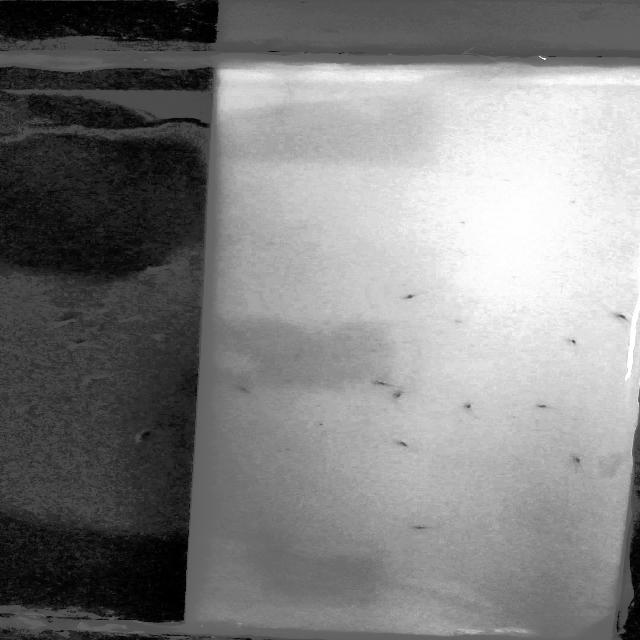shrimp: (386, 387, 415, 405), (608, 304, 634, 324), (227, 380, 254, 398), (529, 401, 566, 413), (409, 522, 442, 534), (396, 291, 431, 302), (458, 398, 478, 414), (391, 437, 414, 450), (561, 331, 580, 345), (566, 453, 588, 463), (366, 377, 396, 384)
